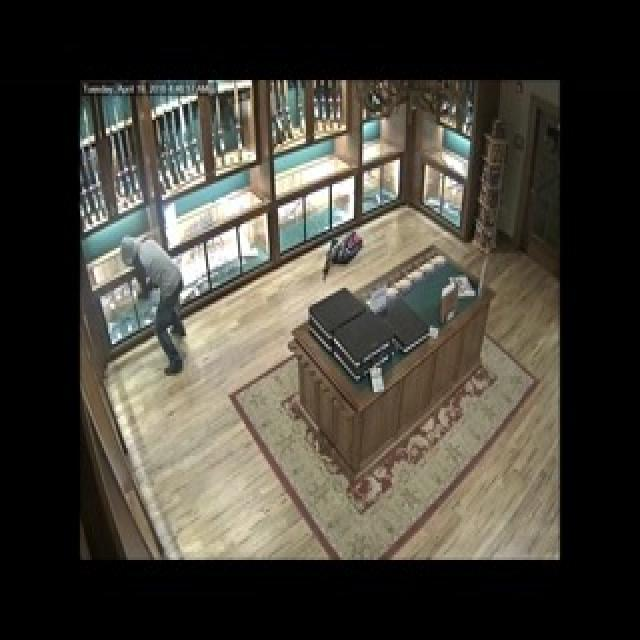thief: (112, 234, 198, 362)
